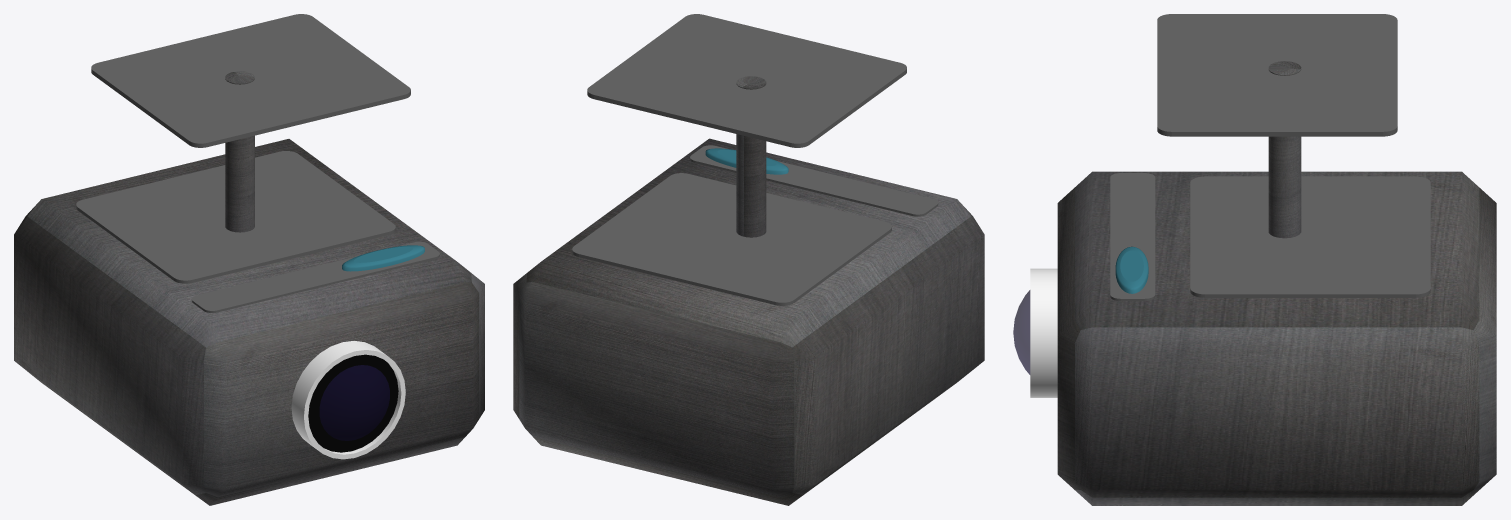
The model's file is Projector.FBX.
The picture shows the model from 3 angles, left to right: view 1: azimuth 30°, elevation 25°; view 2: azimuth 150°, elevation 25°; view 3: azimuth 270°, elevation 25°; orthographic projection. The views are drawn at different scales.
Parts seen in each view (by area): view 1: Box001, Rectangle006, Rectangle04, Circle02, Rectangle03, Sphere01, Cylinder001, Ellipse02; view 2: Box001, Rectangle006, Rectangle04, Rectangle03, Cylinder001, Ellipse02; view 3: Box001, Rectangle006, Rectangle04, Rectangle03, Cylinder001, Circle02, Ellipse02, Sphere01.
Part boxes in pixels (x1,y1,x2,y2): Box001: (14,139,484,505); Rectangle006: (91,14,410,147); Rectangle04: (76,151,395,283); Circle02: (291,341,405,459); Rectangle03: (191,241,439,312); Sphere01: (319,365,389,440); Cylinder001: (225,71,254,232); Ellipse02: (342,245,424,271); Box001: (513,138,984,505); Rectangle006: (587,14,906,147); Rectangle04: (572,173,891,305); Rectangle03: (690,145,938,216); Cylinder001: (736,76,766,237); Ellipse02: (705,148,788,174); Box001: (1057,171,1496,505); Rectangle006: (1157,14,1397,136); Rectangle04: (1190,176,1430,297); Rectangle03: (1110,173,1155,301); Cylinder001: (1268,61,1301,238); Circle02: (1030,268,1057,397); Ellipse02: (1115,246,1148,293); Sphere01: (1013,290,1030,374).
Bounding box in the file's own units: 110 × 119 × 139.
Materials: 6 (1 with a texture image).
